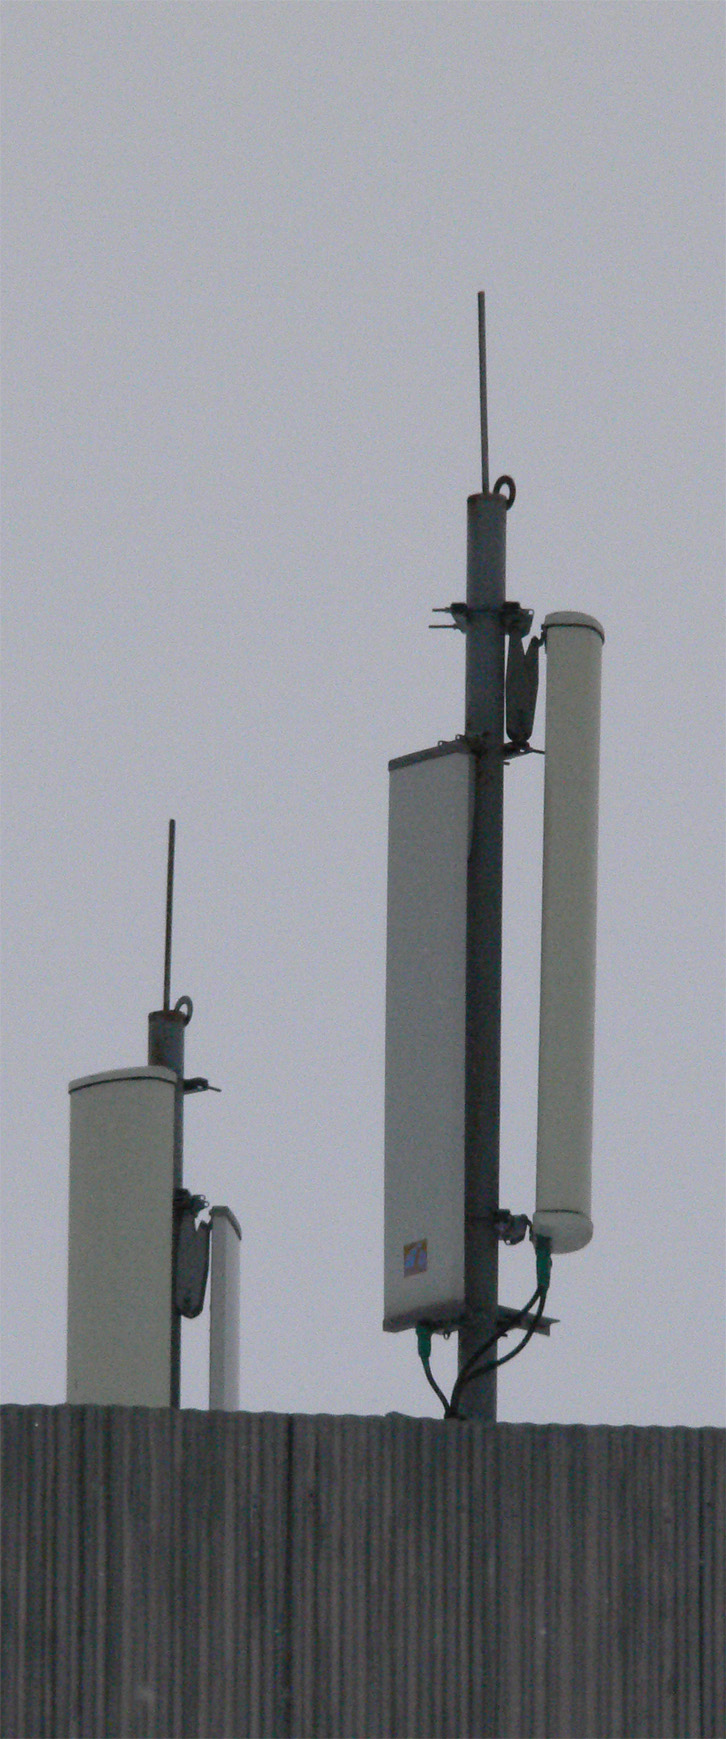sa: (352, 680, 504, 1357), (27, 989, 212, 1413), (520, 616, 620, 1287)
